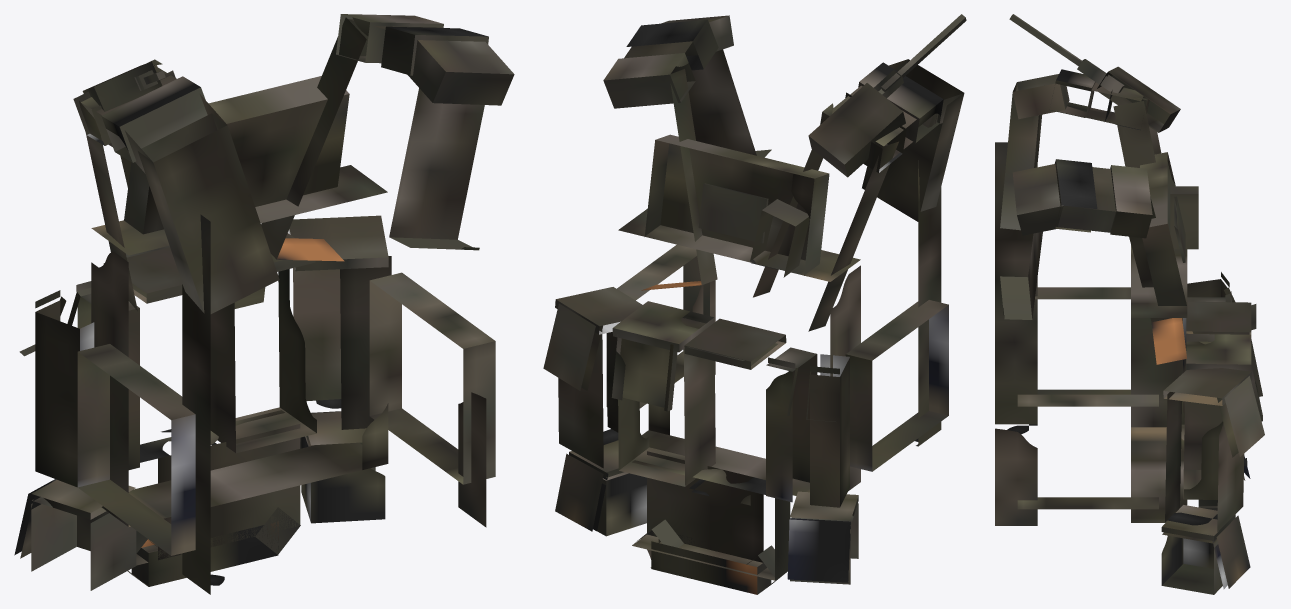
File: horse.obj
The picture shows the model from 3 angles, left to right: view 1: azimuth 30°, elevation 25°; view 2: azimuth 150°, elevation 25°; view 3: azimuth 270°, elevation 25°; orthographic projection. The views are drawn at different scales.
Parts seen in each view (by area): view 1: horse; view 2: horse; view 3: horse.
Boxes of the visible parts, <box> form: horse: <box>14,14,514,594</box>; horse: <box>543,14,966,594</box>; horse: <box>995,14,1264,594</box>.
Bounding box in the file's own units: 0.7145 × 1.17 × 0.6227.
